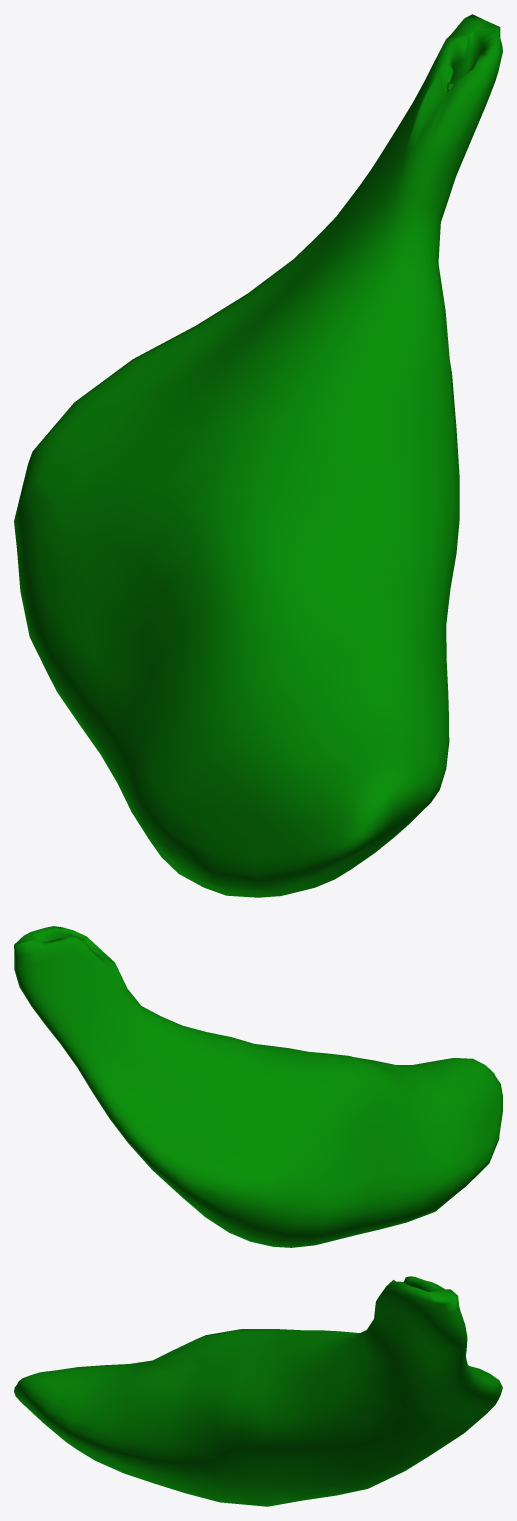
File: VH_F_Gallbladder.glb
The picture shows the model from 3 angles, top to bottom: view 1: azimuth 30°, elevation 25°; view 2: azimuth 150°, elevation 25°; view 3: azimuth 270°, elevation 25°; orthographic projection. The views are drawn at different scales.
Parts seen in each view (by area): view 1: VH_F_gallbladder; view 2: VH_F_gallbladder; view 3: VH_F_gallbladder.
Boxes of the visible parts, x1,y1,x2,y2 form: VH_F_gallbladder: [14, 14, 502, 897]; VH_F_gallbladder: [14, 926, 502, 1247]; VH_F_gallbladder: [14, 1276, 502, 1506].
Size of the model in its own units: 0.0409 by 0.0379 by 0.052.
